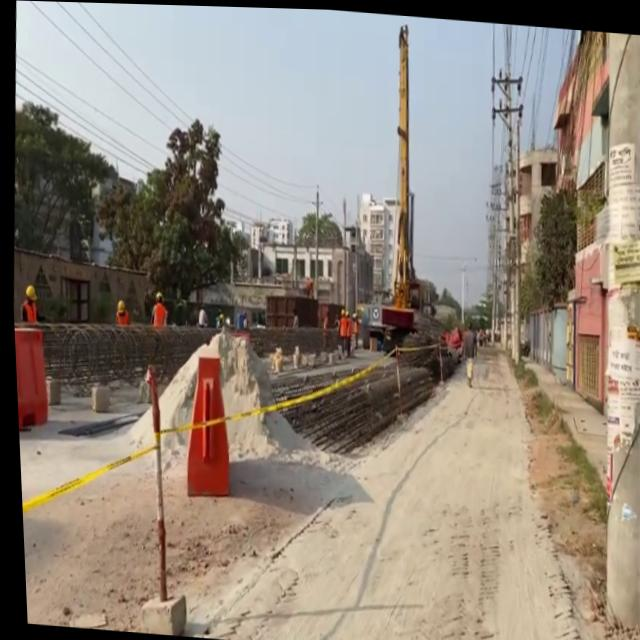Construction-barrier: (480, 343, 640, 640)
Garbage: (11, 323, 49, 433), (260, 290, 317, 330)
Garbage-bin: (15, 284, 36, 323), (146, 290, 167, 326), (112, 298, 128, 324), (193, 303, 206, 327), (233, 308, 246, 329)
Light-pole: (565, 29, 640, 640), (130, 363, 174, 600)
Pothole: (511, 352, 610, 489)
Traffic-cone: (342, 16, 442, 356)
